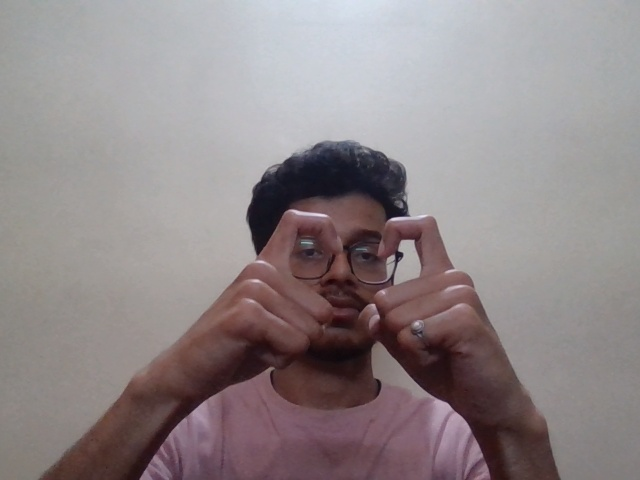who: (185, 204, 508, 378)
